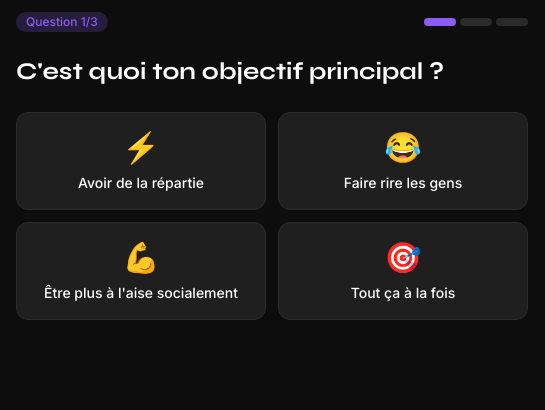
HumorQuiz › shows INTERMEDIAIRE result
Click the text "Avoir de la répartie". click: x=141, y=183
box: [78,173,204,193]
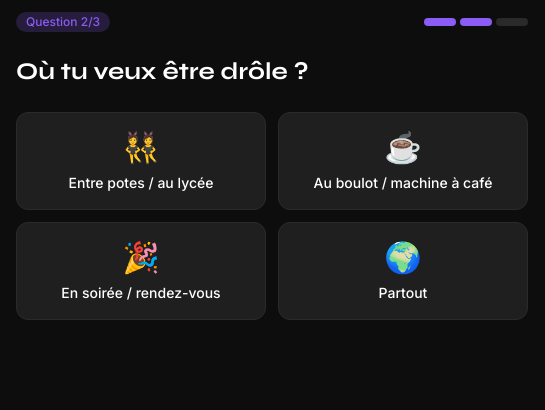
Click the text "Entre potes / au lycée". click: x=141, y=183
box: [68,173,213,193]
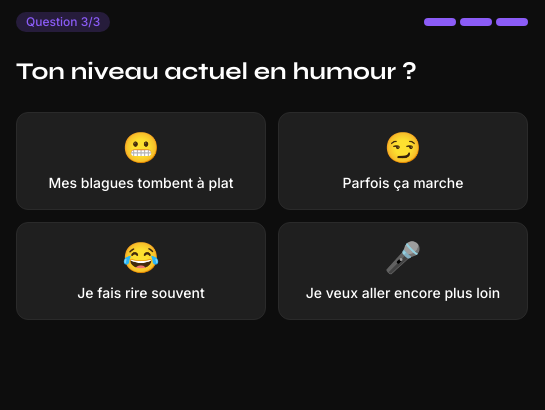
Click the text "Parfois ça marche". click: x=403, y=183
box: [343,173,464,193]
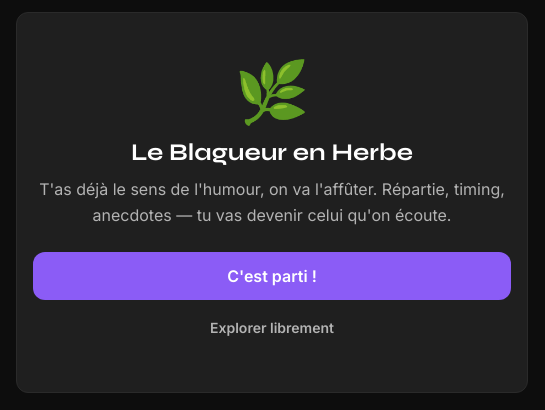
Expected: the heading "Le Blagueur en Herbe" is shown, [131,138,413,167]
